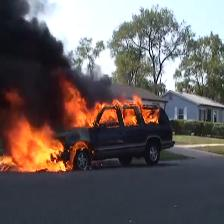fire: (0, 89, 89, 171), (59, 78, 160, 129)
